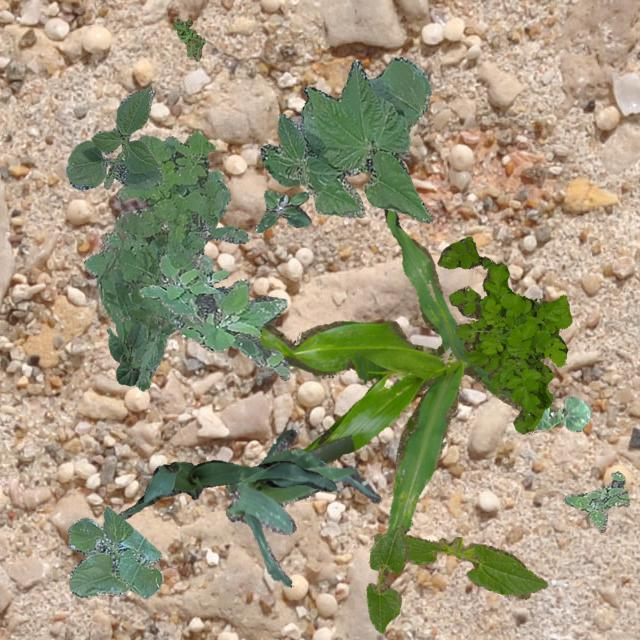crop: (256, 208, 558, 532), (260, 56, 432, 222), (224, 428, 380, 586), (117, 459, 336, 518), (372, 532, 546, 598), (66, 85, 160, 188), (67, 504, 162, 598), (366, 524, 408, 632), (106, 320, 144, 384), (532, 396, 590, 430)
weed: (82, 128, 248, 390), (436, 235, 570, 432), (138, 252, 288, 380), (562, 469, 628, 532), (254, 190, 310, 232), (172, 16, 204, 61)
